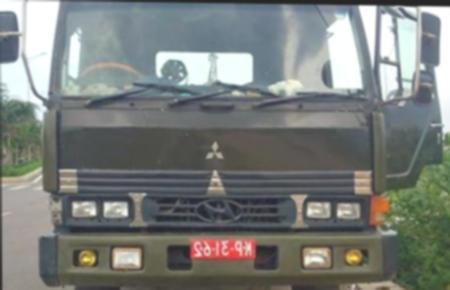License_Plate: (189, 238, 255, 261)
